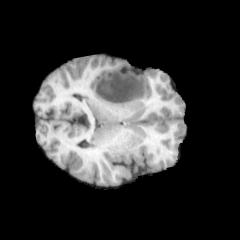glioma: (93, 70, 145, 103)
